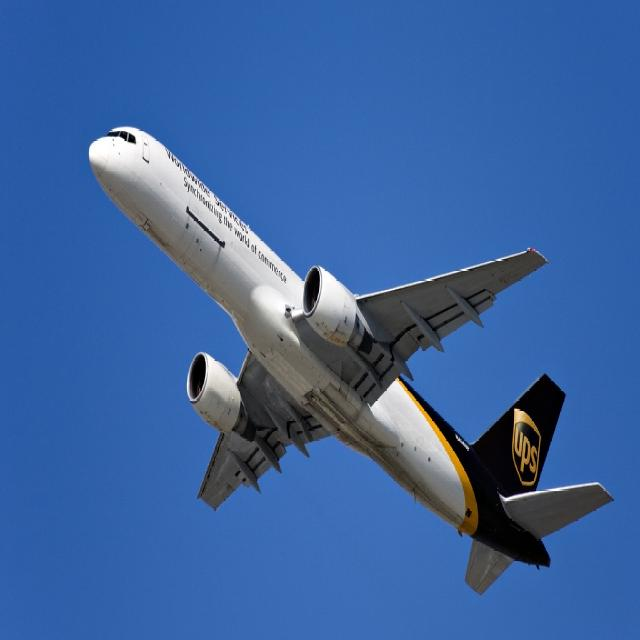ups: (513, 409, 543, 485)
